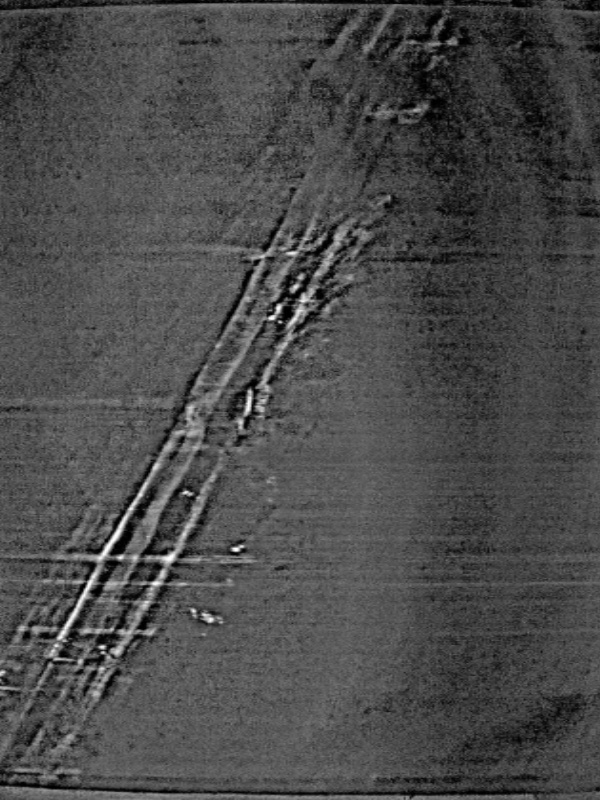splice_vulcanized: (1, 4, 468, 786)
